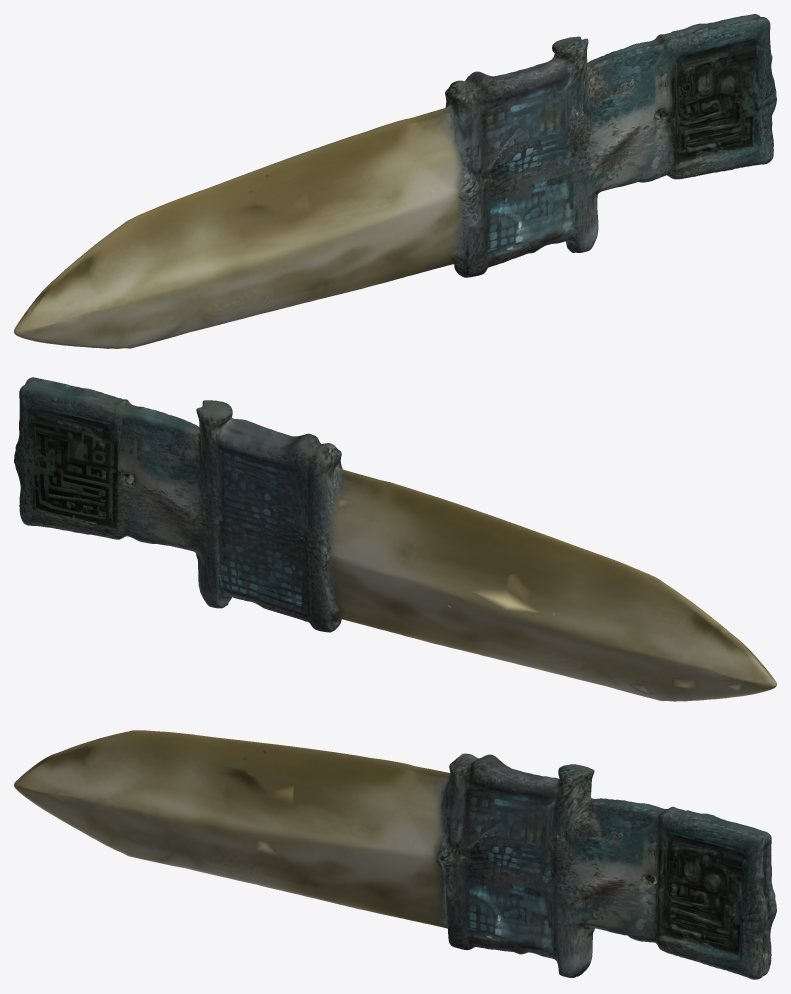
The model's file is turquoise-ge-detail.glb.
3 views of the same model, one above another, from view 1: azimuth 30°, elevation 25°; view 2: azimuth 150°, elevation 25°; view 3: azimuth 330°, elevation 25° (orthographic).
Visible parts, largest first — view 1: node_0; view 2: node_0; view 3: node_0.
Boxes of the visible parts, bbox=[...] form: node_0: bbox=[14, 14, 776, 348]; node_0: bbox=[14, 377, 776, 701]; node_0: bbox=[14, 730, 776, 979].
Size of the model in its own units: 1.19 by 0.3102 by 0.072.
1 material, 1 textured.
